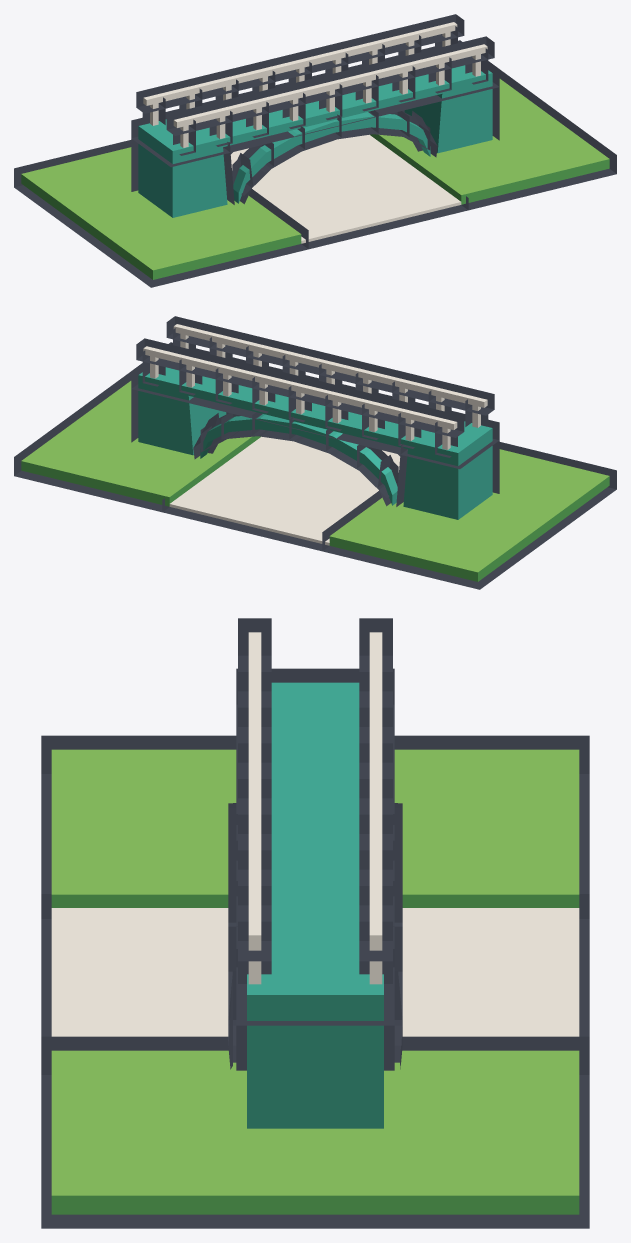
File: skill_fraction_bridge_t2.glb
3 renders of one model, top to bottom at view 1: azimuth 30°, elevation 25°; view 2: azimuth 150°, elevation 25°; view 3: azimuth 270°, elevation 25°, orthographic. The views are drawn at different scales.
Visible parts, largest first — view 1: base, ink_outline (×4), grow_deck, grow_rails, grow_arch; view 2: base, ink_outline (×4), grow_deck, grow_rails, grow_arch; view 3: base, ink_outline (×4), grow_deck, grow_rails.
Part boxes in pixels (x1=…): base: x1=21, y1=79, x2=609, y2=279; ink_outline (×4): x1=14, y1=14, x2=616, y2=287; grow_deck: x1=138, y1=65, x2=492, y2=217; grow_rails: x1=143, y1=22, x2=487, y2=147; grow_arch: x1=233, y1=112, x2=430, y2=203; base: x1=21, y1=381, x2=609, y2=581; ink_outline (×4): x1=14, y1=316, x2=616, y2=589; grow_deck: x1=138, y1=367, x2=492, y2=519; grow_rails: x1=143, y1=324, x2=487, y2=449; grow_arch: x1=200, y1=414, x2=397, y2=505; base: x1=51, y1=749, x2=579, y2=1214; ink_outline (×4): x1=41, y1=618, x2=589, y2=1228; grow_deck: x1=247, y1=682, x2=383, y2=1128; grow_rails: x1=248, y1=632, x2=382, y2=984.
Size of the model in its own units: 2.04 by 0.475 by 1.04.
